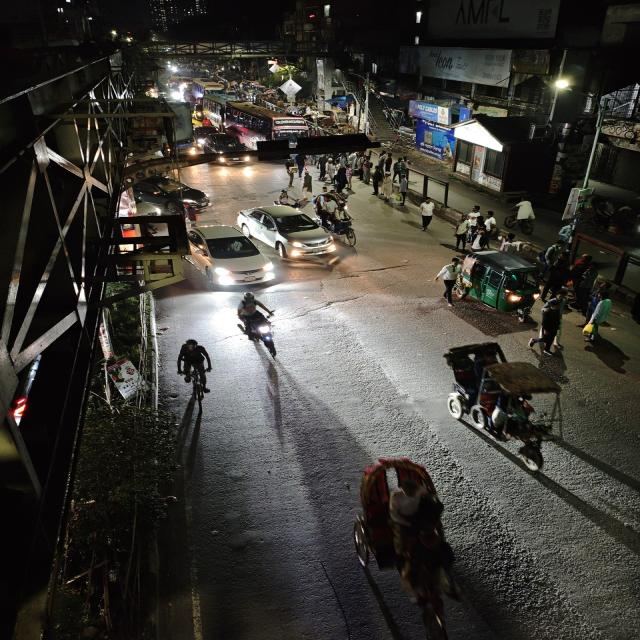bicycle: (175, 335, 217, 399)
bus: (227, 103, 312, 144), (201, 92, 243, 130)
car: (236, 204, 340, 264), (186, 224, 272, 290), (139, 176, 213, 214), (202, 133, 258, 167)
cng: (462, 250, 550, 326)
motorcycle: (233, 290, 286, 361)
pedestrian: (432, 256, 471, 306), (534, 300, 571, 352), (581, 292, 619, 342), (512, 195, 538, 228), (416, 197, 440, 232), (332, 164, 355, 195), (450, 218, 472, 250), (368, 163, 389, 196), (466, 204, 484, 242), (483, 209, 500, 243), (315, 154, 335, 180), (273, 188, 298, 208), (298, 171, 314, 193)
rickshaw: (347, 452, 459, 626), (432, 338, 560, 470), (317, 195, 360, 245)
